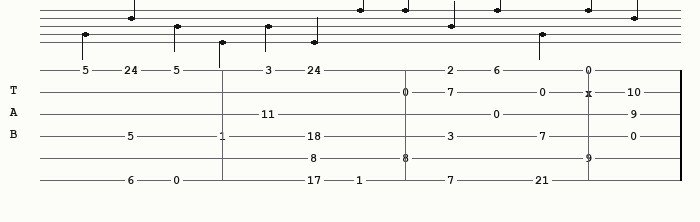0: (173, 174, 184, 186), (402, 86, 413, 98), (493, 108, 504, 120), (539, 86, 550, 98), (585, 64, 596, 76), (630, 130, 641, 142)
1: (219, 130, 230, 142), (356, 174, 367, 186)
10: (627, 86, 645, 98)
11: (261, 108, 279, 120)
17: (307, 174, 325, 186)
18: (307, 130, 325, 142)
2: (447, 64, 458, 76)
21: (535, 174, 553, 186)
24: (124, 64, 142, 76), (307, 64, 325, 76)
3: (265, 64, 276, 76), (447, 130, 458, 142)
5: (82, 64, 93, 76), (127, 130, 138, 142), (173, 64, 184, 76)
6: (127, 174, 138, 186), (493, 64, 504, 76)
7: (447, 174, 458, 186), (447, 86, 458, 98), (539, 130, 550, 142)
8: (310, 152, 321, 164), (402, 152, 413, 164)
9: (585, 152, 596, 164), (630, 108, 641, 120)
x: (585, 87, 596, 97)
